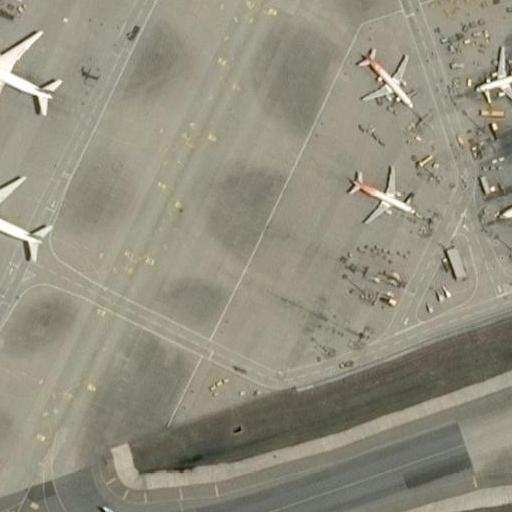Aircraft: (0, 19, 65, 132), (0, 23, 65, 130), (337, 151, 421, 228), (0, 164, 54, 274), (345, 34, 416, 115), (0, 167, 52, 275), (340, 159, 420, 225), (349, 43, 418, 114), (466, 36, 512, 112), (469, 42, 512, 109), (62, 492, 195, 512), (492, 135, 512, 245), (496, 141, 512, 245), (68, 501, 193, 512)
